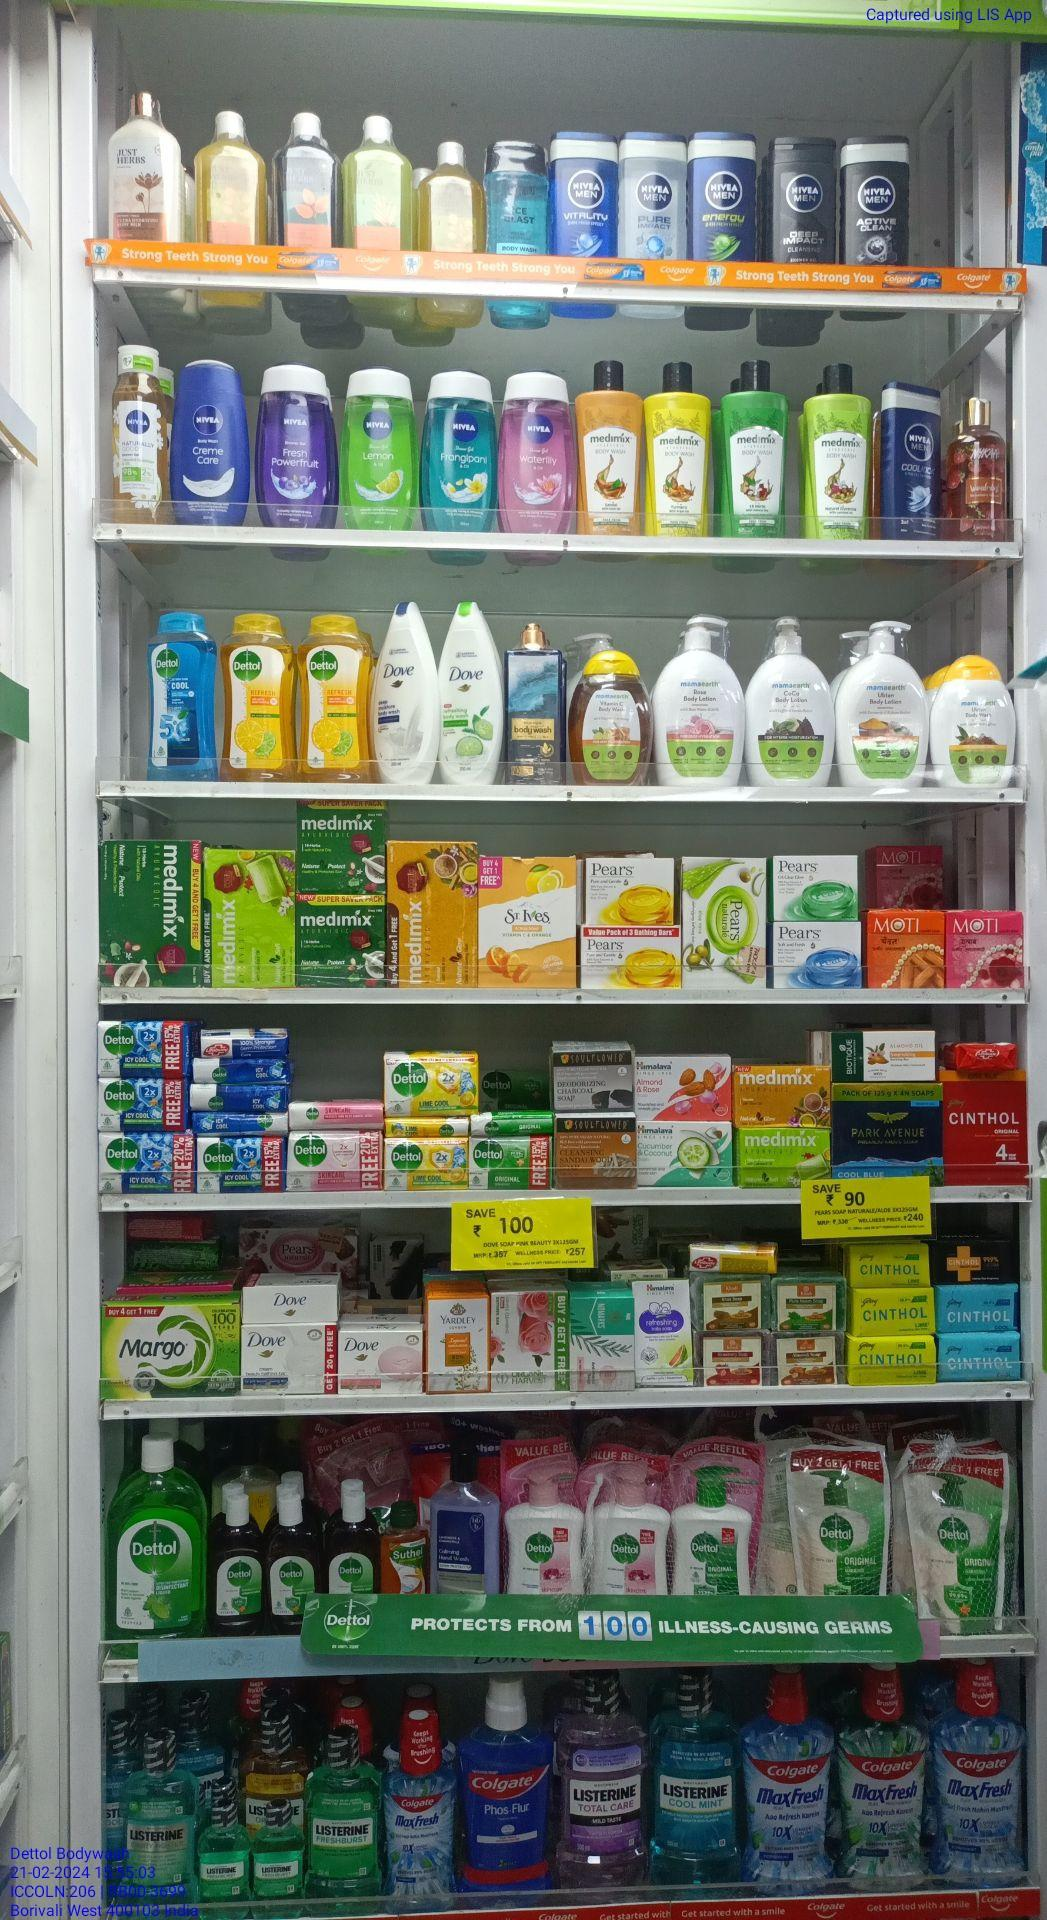Dettol_Bodywash_Cool: (144, 610, 217, 779)
Dettol_Bodywash_Refresh: (218, 610, 295, 780), (297, 611, 371, 779)
Dove_Deep_Moisture_Body_Wash_250ML: (371, 600, 440, 783)
Dove_Refreshing_Body_Wash_250ML: (440, 597, 504, 783)
Nivea_Creme_Care_Body_Wash_250ML: (170, 358, 249, 524)
Nivea_Shower_Gel_Frangipani_and_Oil_250ML: (419, 367, 498, 530)
Nivea_Shower_Gel_Fresh_Powerfruit_250ML: (254, 360, 337, 526)
Nivea_Shower_Gel_Lemon_and_Oil_250ML: (338, 365, 416, 526)
Nivea_Shower_Gel_Waterlily_and_Oil_250ML: (495, 367, 576, 533)
